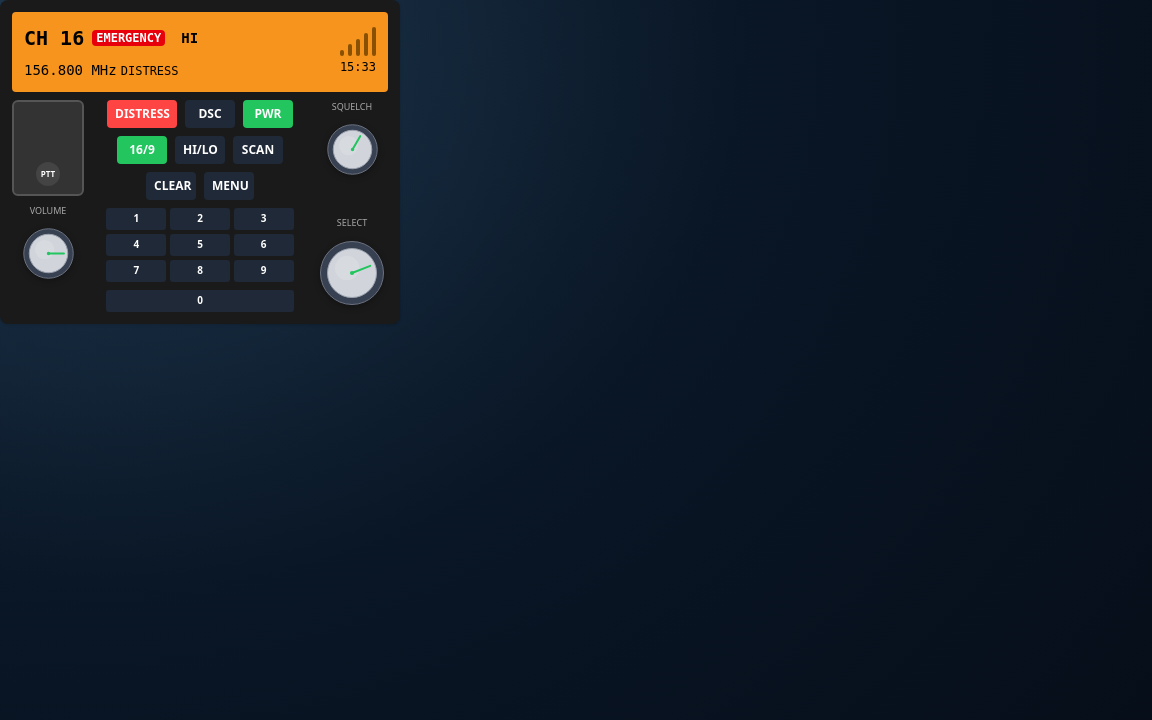
Test: MarineRadio › cycles menu options and toggles GPS position
The width and height of the screenshot is (1152, 720).
Click the button "MENU" at (229, 186), box [204,172,254,200]
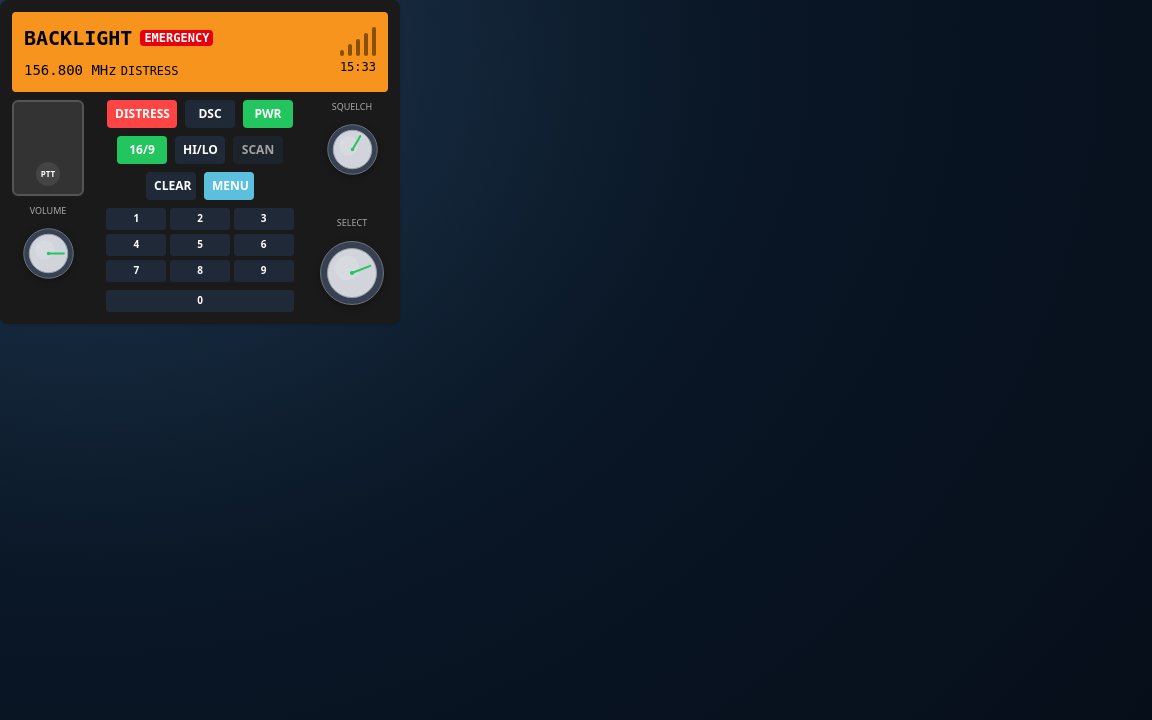
Click the button "MENU" at (229, 186), box [204,172,254,200]
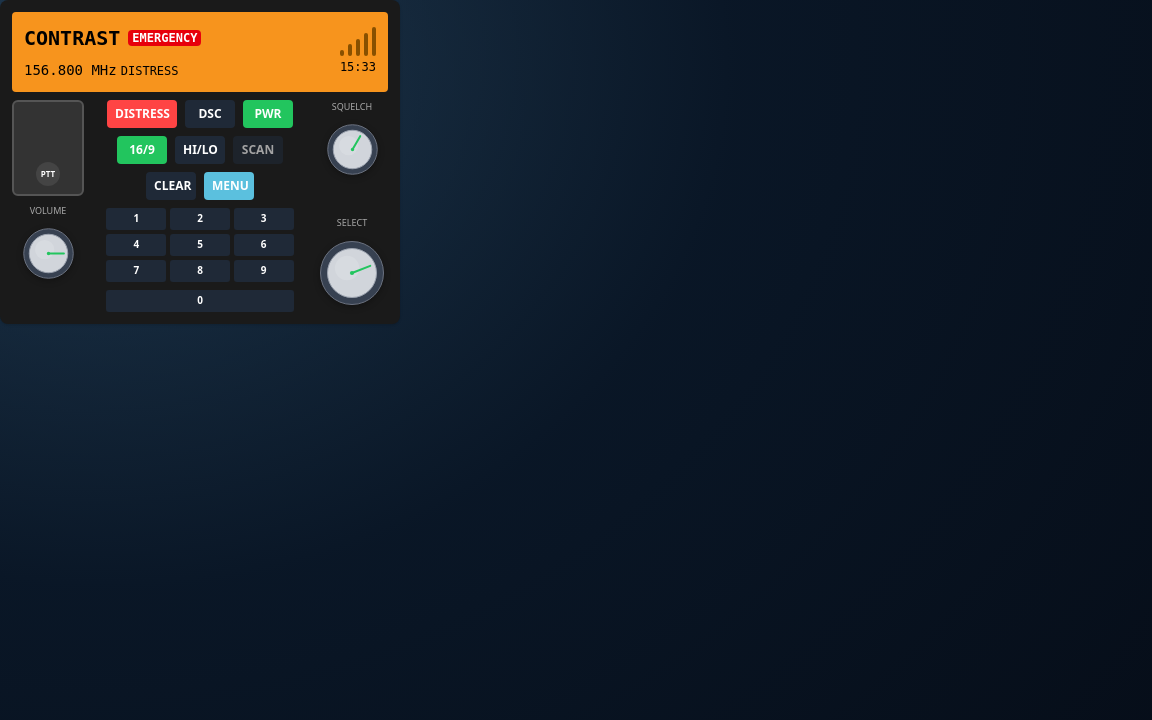
Click the button "MENU" at (229, 186), box [204,172,254,200]
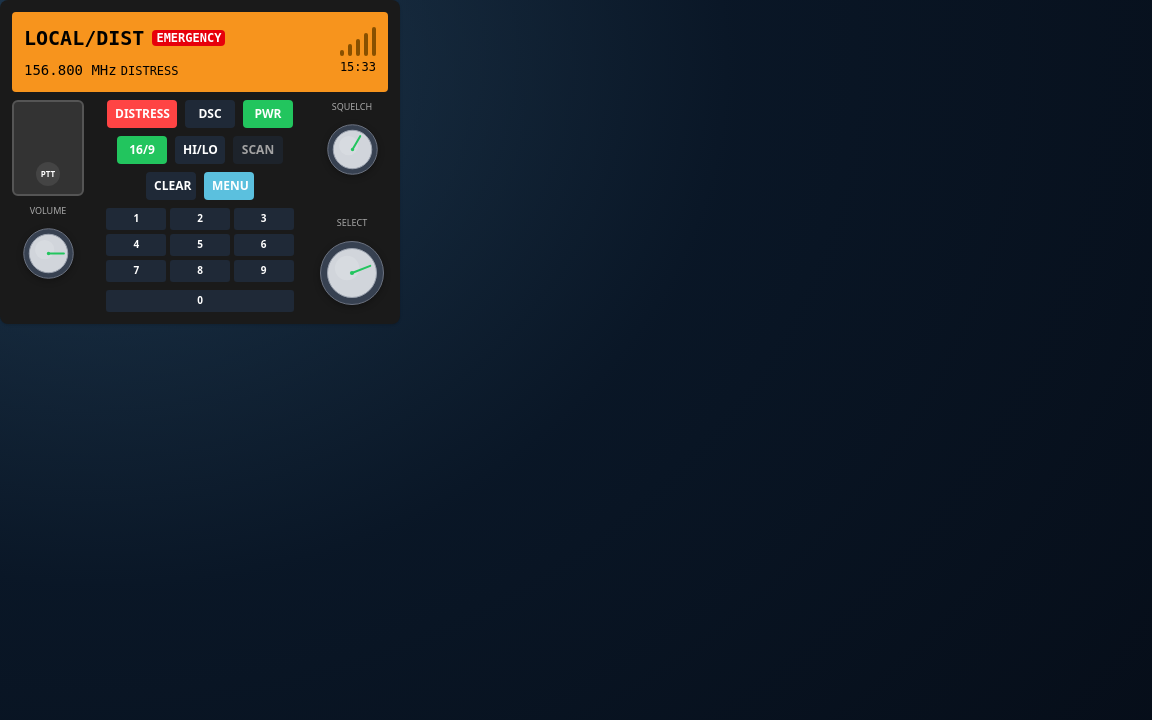
Click the button "MENU" at (229, 186), box [204,172,254,200]
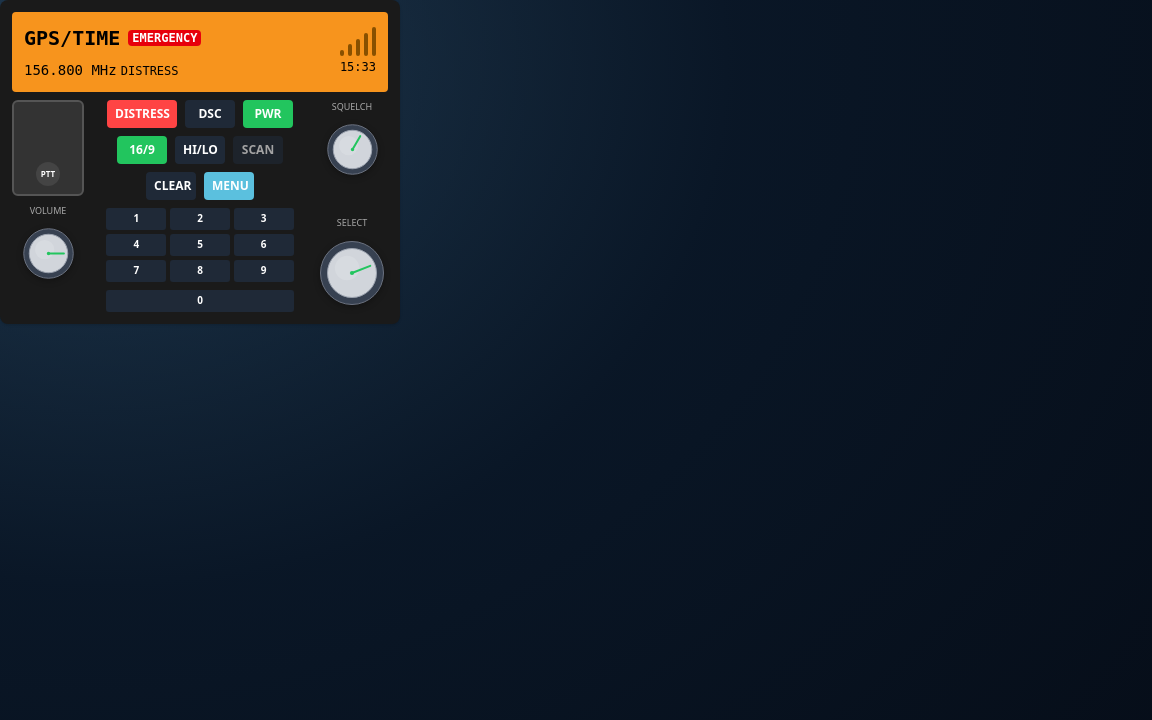
expect the text "GPS/TIME" is shown: met, box [24,26,120,50]
Double-click the button "MENU" at (229, 186), box [204,172,254,200]
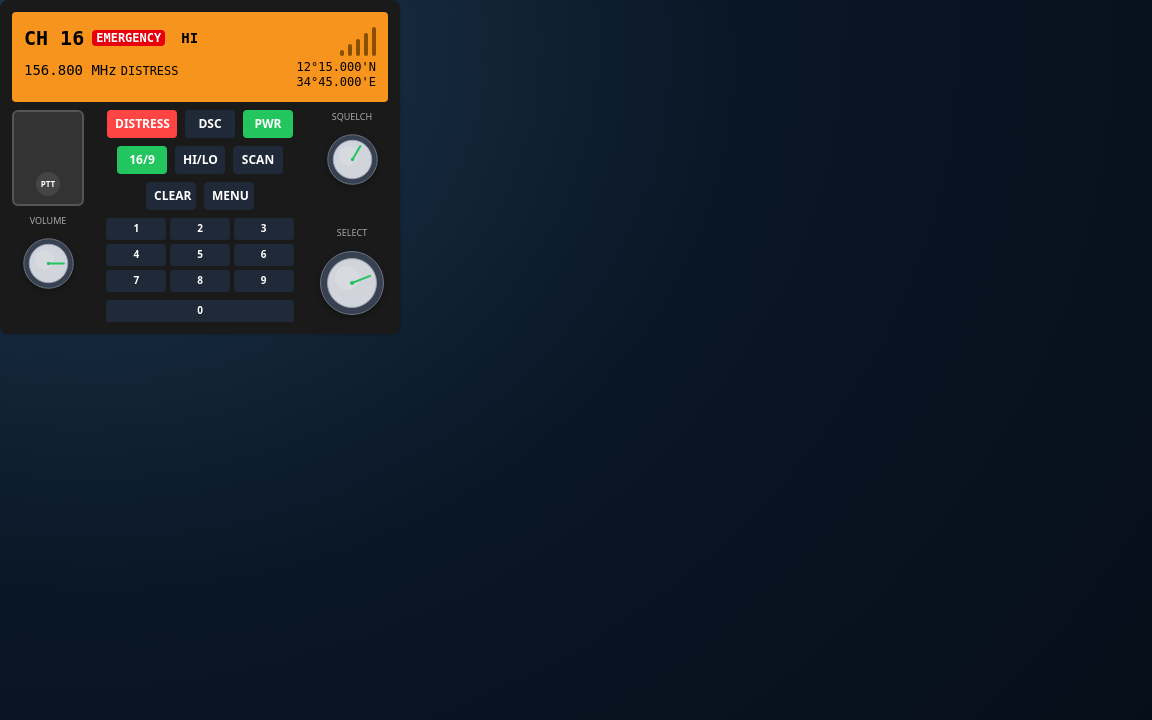
expect the text "12°15.000'N" is shown: met, box [296,60,376,75]
expect the text "34°45.000'E" is shown: met, box [296,75,376,90]
